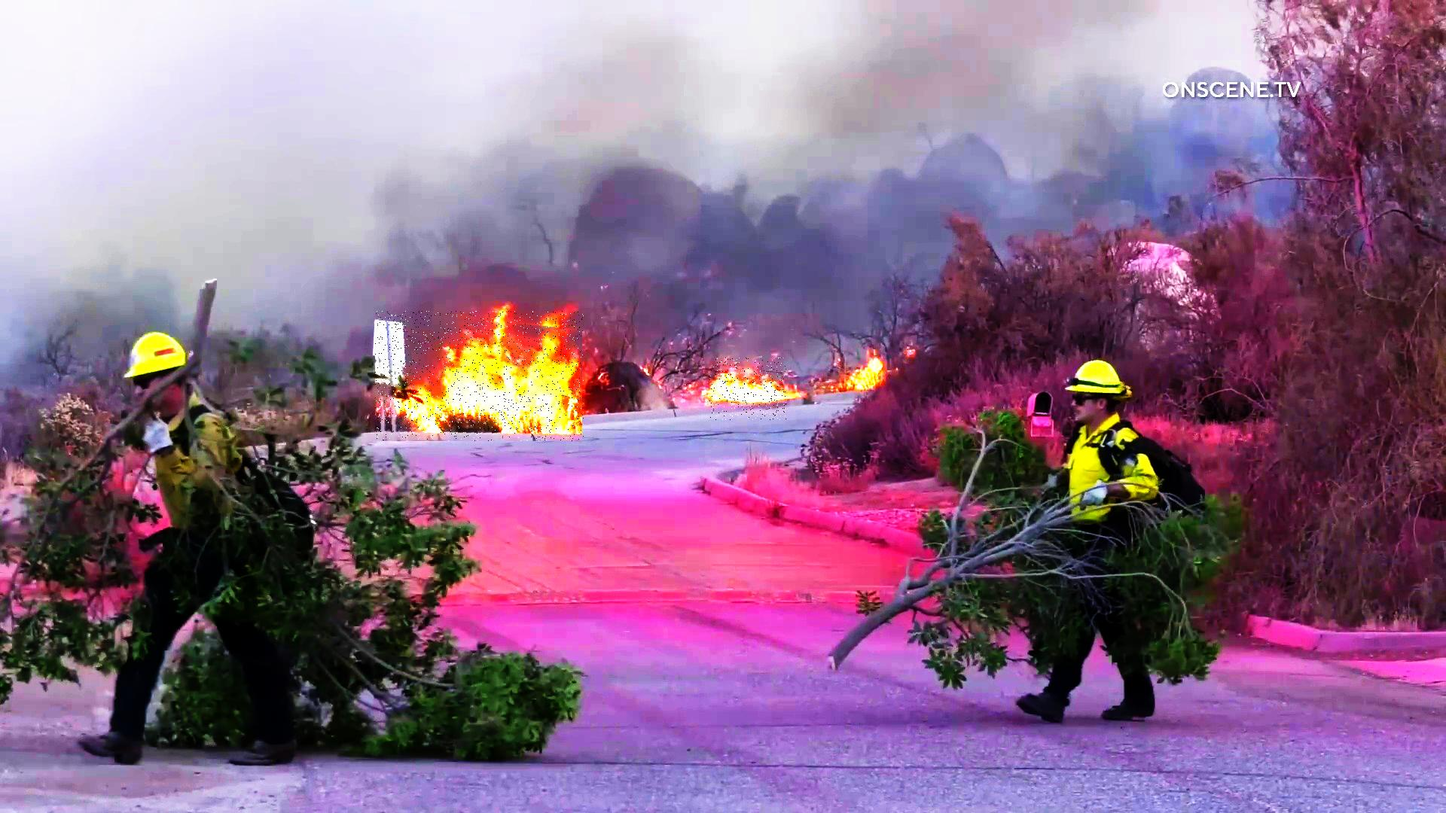fire: (376, 311, 584, 441), (710, 358, 787, 420)
